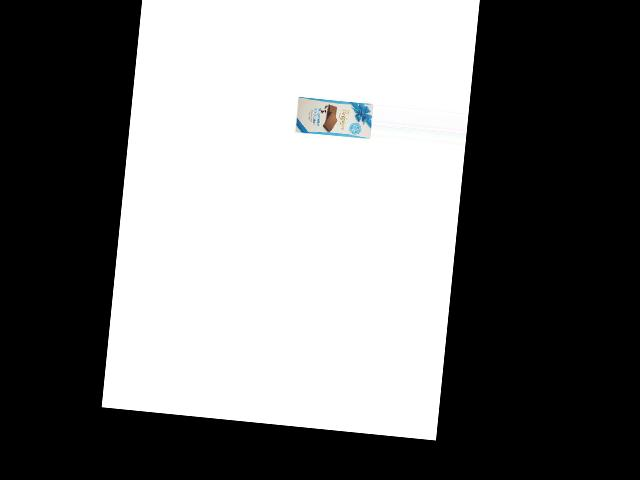chocolate: (293, 91, 374, 142)
